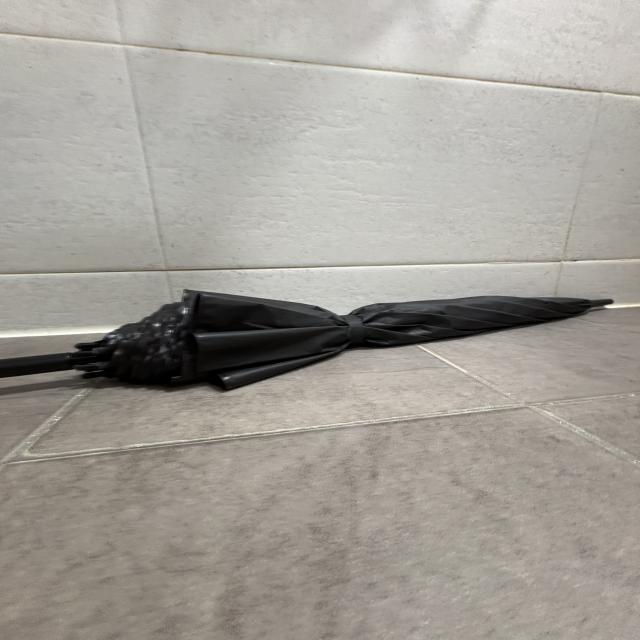umbrella: (2, 288, 615, 392)
